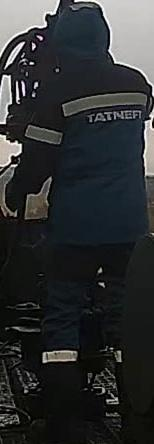gloves: (0, 166, 39, 215)
vest: (35, 59, 154, 255)
